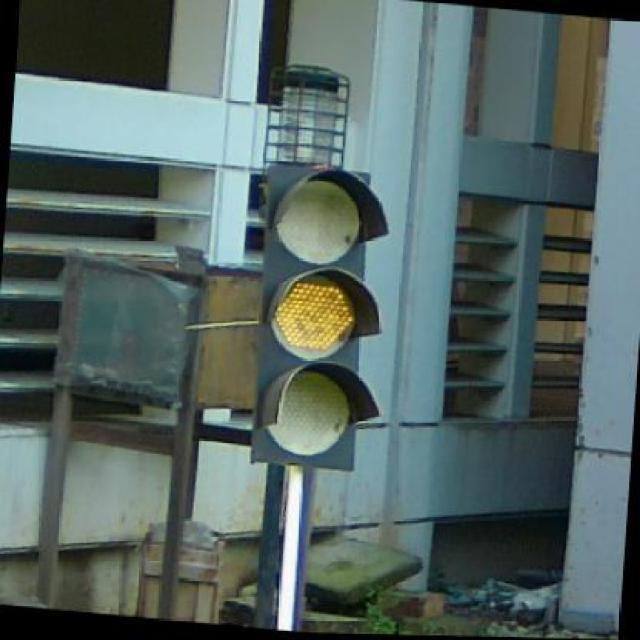yellow_light: (252, 166, 388, 470)
